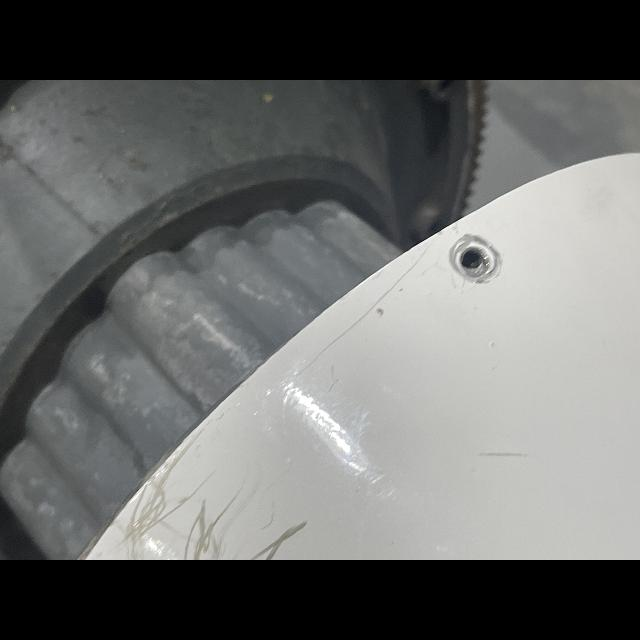Missing Fastener: (441, 241, 524, 277)
